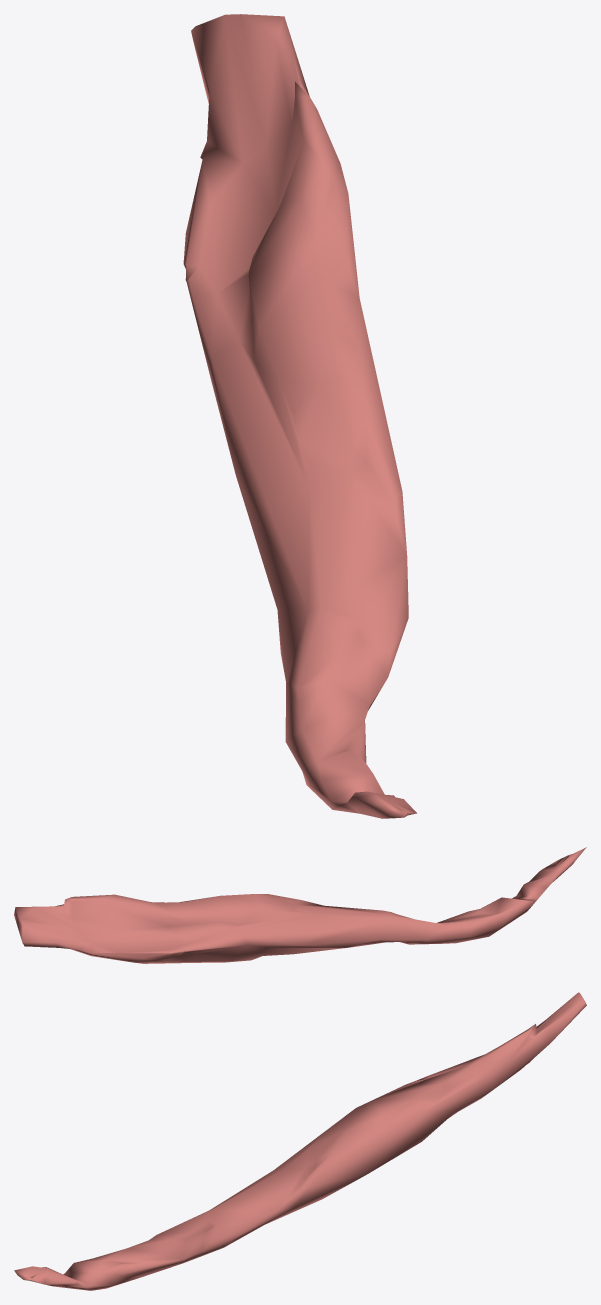
3 views of the same model, one above another, from view 1: azimuth 30°, elevation 25°; view 2: azimuth 150°, elevation 25°; view 3: azimuth 330°, elevation 25° (orthographic). The views are drawn at different scales.
Visible parts, largest first — view 1: ZA_a71914347fd5e76b; view 2: ZA_a71914347fd5e76b; view 3: ZA_a71914347fd5e76b.
Part boxes in pixels (x1,y1,x2,y2): ZA_a71914347fd5e76b: (183,14,416,818); ZA_a71914347fd5e76b: (14,847,586,963); ZA_a71914347fd5e76b: (14,992,586,1290).
Bounding box in the file's own units: 0.033 × 0.0184 × 0.0727.
